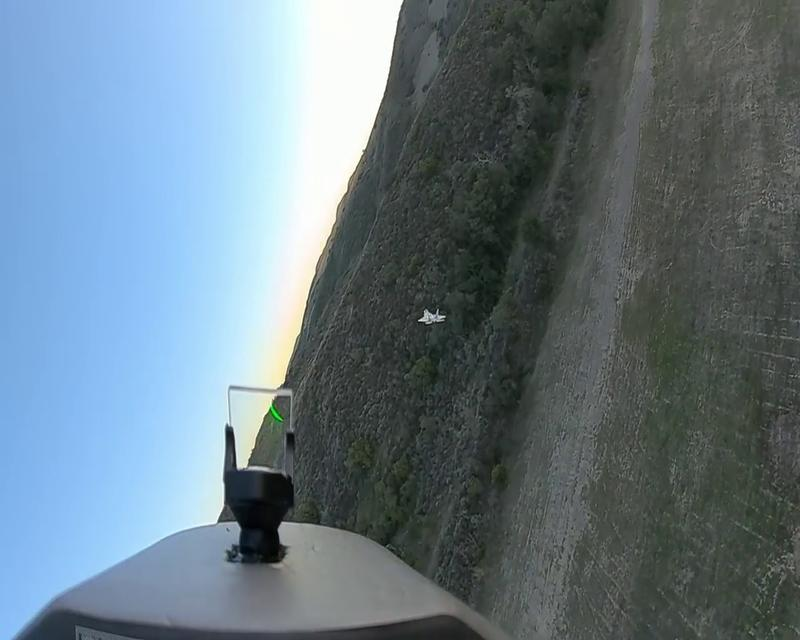UAV: (418, 306, 448, 326)
